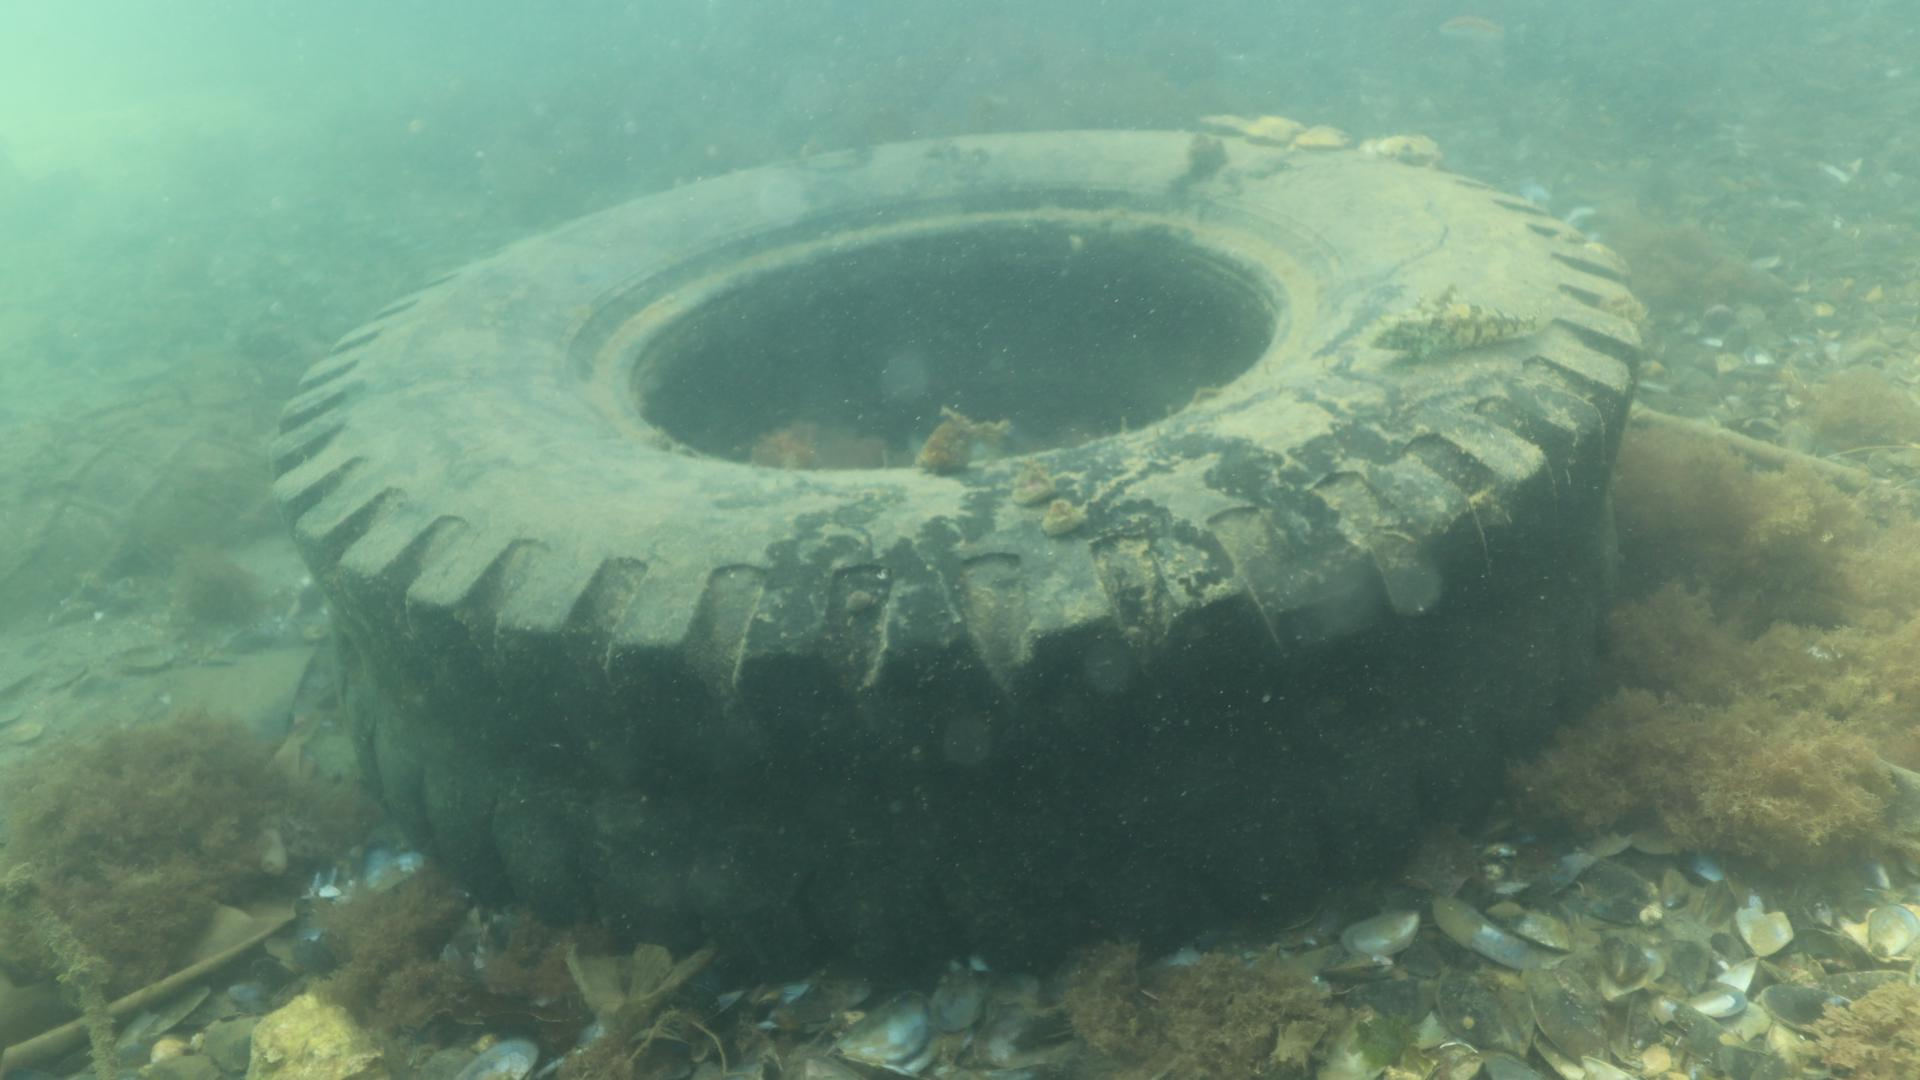tire: (266, 127, 1642, 985)
